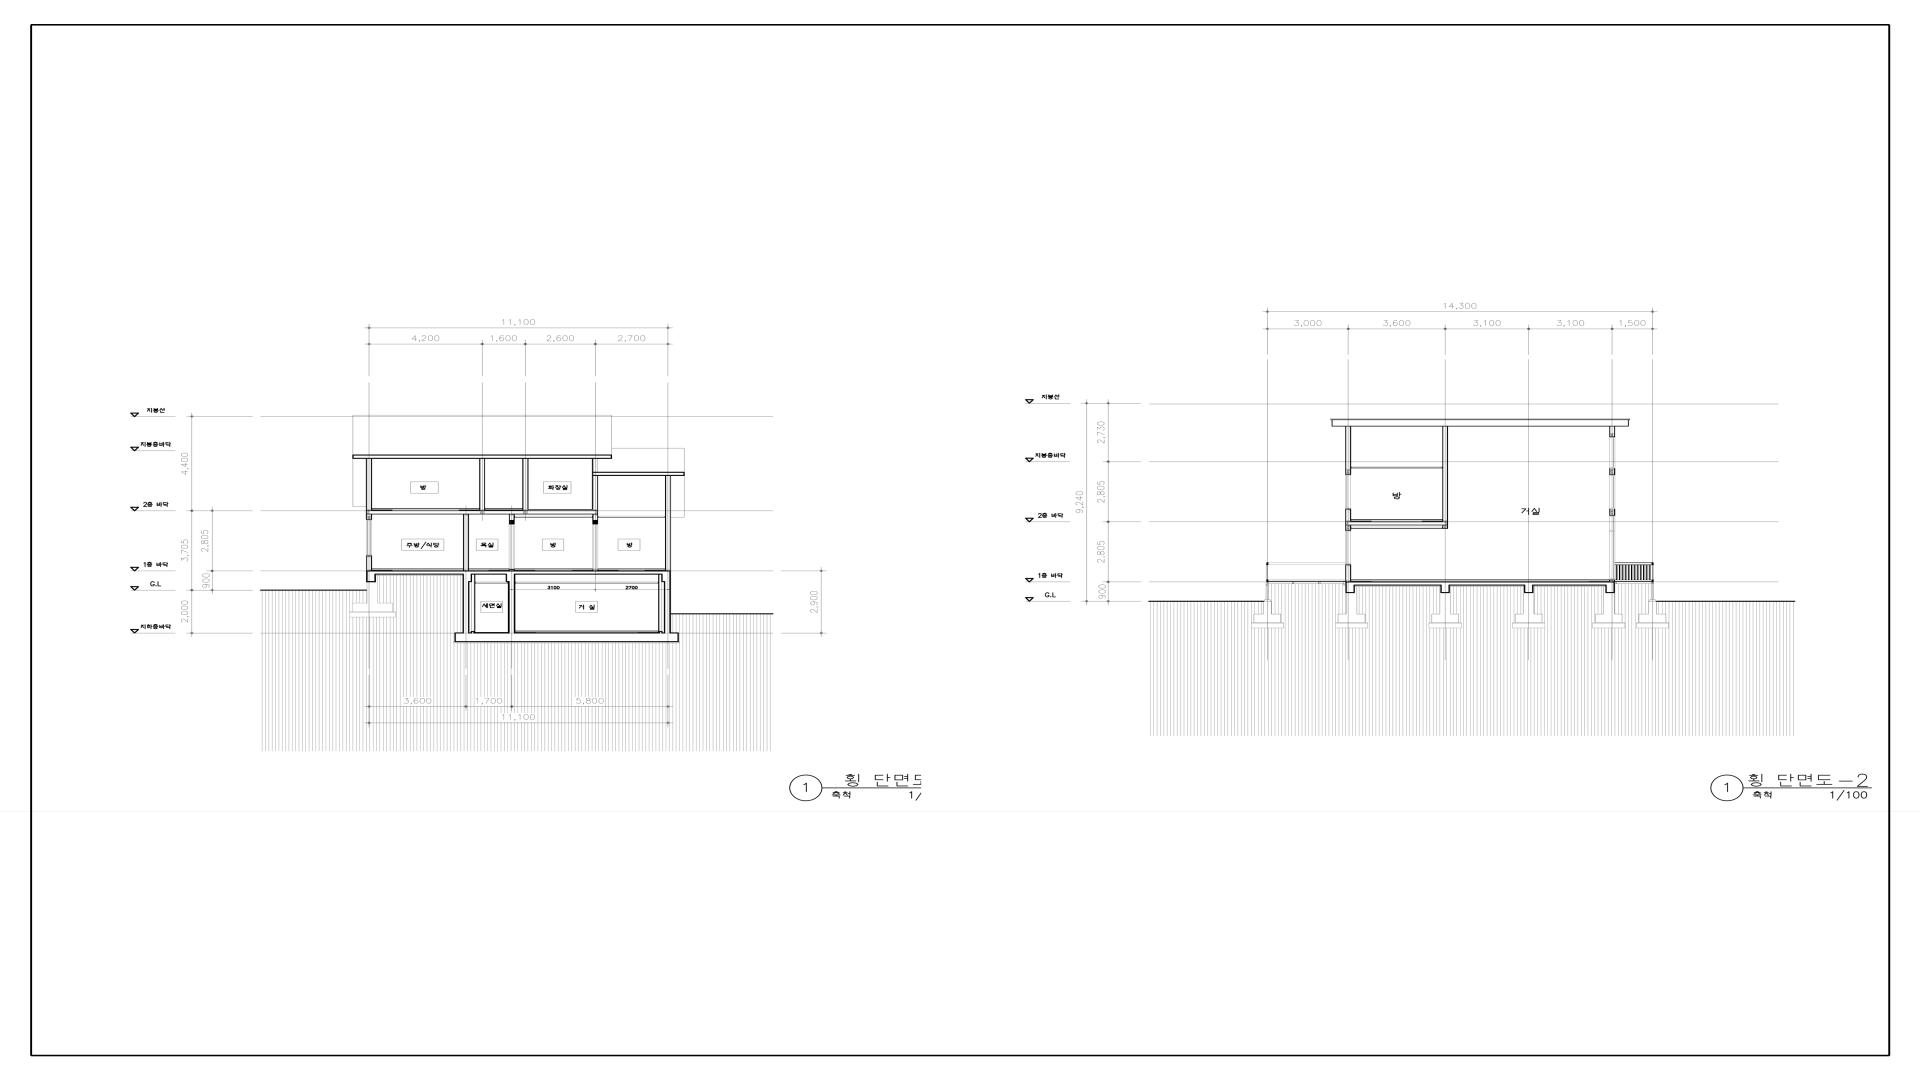door: (592, 524, 598, 570), (509, 524, 515, 569)
wall: (1332, 420, 1629, 427), (455, 633, 679, 642), (376, 571, 671, 575), (366, 510, 598, 515), (352, 455, 612, 459), (1355, 582, 1606, 586), (1442, 427, 1448, 522), (665, 476, 671, 571), (592, 472, 685, 476), (522, 459, 529, 510), (508, 582, 515, 633), (664, 582, 671, 633), (1603, 586, 1615, 614), (463, 515, 469, 571), (366, 459, 372, 511), (479, 459, 485, 511), (1345, 522, 1448, 525), (1346, 586, 1357, 614), (463, 582, 469, 633), (1345, 427, 1351, 475), (1254, 614, 1281, 623), (1338, 614, 1365, 623), (1432, 614, 1459, 623), (1515, 614, 1542, 623), (1595, 614, 1622, 623), (1639, 614, 1666, 623), (1440, 593, 1451, 614), (1523, 593, 1534, 614), (592, 476, 598, 510), (1268, 563, 1345, 565), (1269, 582, 1344, 584), (1636, 624, 1669, 628), (1251, 624, 1284, 628), (1335, 624, 1368, 628), (1429, 624, 1461, 628), (1513, 624, 1545, 628), (1593, 624, 1625, 628), (1648, 601, 1657, 614), (1263, 601, 1272, 614), (1345, 582, 1355, 593), (1605, 582, 1615, 593), (366, 571, 376, 582), (1345, 565, 1351, 582), (366, 556, 372, 571), (1345, 509, 1351, 522), (592, 459, 598, 472), (1615, 582, 1651, 584), (1524, 586, 1534, 593), (1440, 586, 1450, 593), (661, 575, 671, 582), (463, 575, 472, 582), (506, 575, 515, 582), (1609, 427, 1615, 437), (1266, 562, 1269, 582), (1651, 562, 1654, 582), (592, 514, 598, 524), (509, 515, 515, 524), (1266, 582, 1269, 599), (1651, 582, 1654, 599), (1609, 509, 1615, 516), (1609, 468, 1615, 475), (1345, 525, 1351, 531), (1636, 623, 1669, 624), (1251, 623, 1284, 624), (1335, 623, 1368, 624), (1429, 623, 1461, 624), (1513, 623, 1545, 624), (1593, 623, 1625, 624), (366, 515, 372, 520), (1442, 525, 1448, 529), (1264, 599, 1271, 601), (1649, 599, 1656, 601), (1609, 580, 1615, 582), (509, 569, 515, 571), (593, 570, 598, 571), (1344, 582, 1345, 585)
window: (1609, 516, 1615, 580), (366, 520, 372, 556), (1345, 531, 1351, 565), (1609, 475, 1615, 509), (1609, 437, 1615, 469), (1346, 475, 1351, 509)
